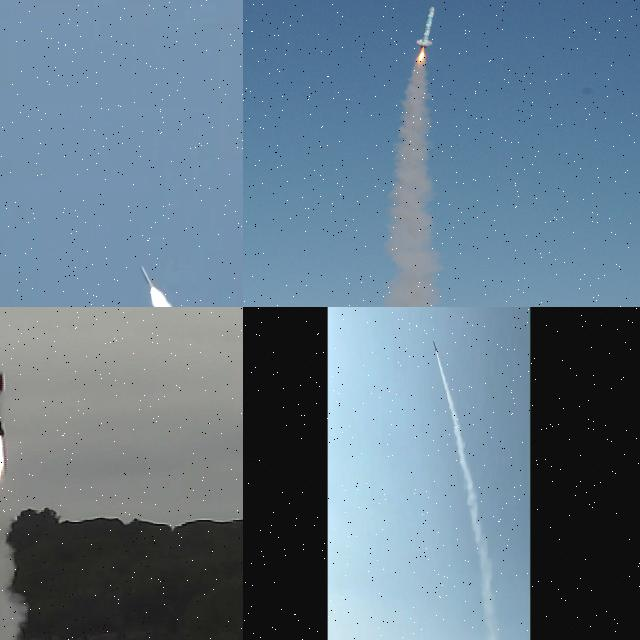Rocket: (416, 6, 434, 49), (140, 265, 154, 289), (0, 370, 5, 436), (433, 340, 438, 352)
